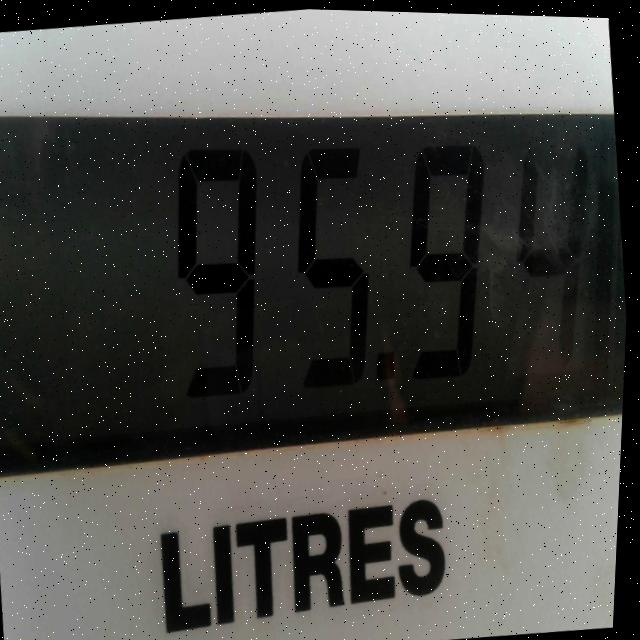.: (365, 328, 411, 410)
4: (490, 123, 620, 403)
5: (270, 117, 403, 420)
9: (127, 104, 297, 416), (372, 125, 516, 390)
